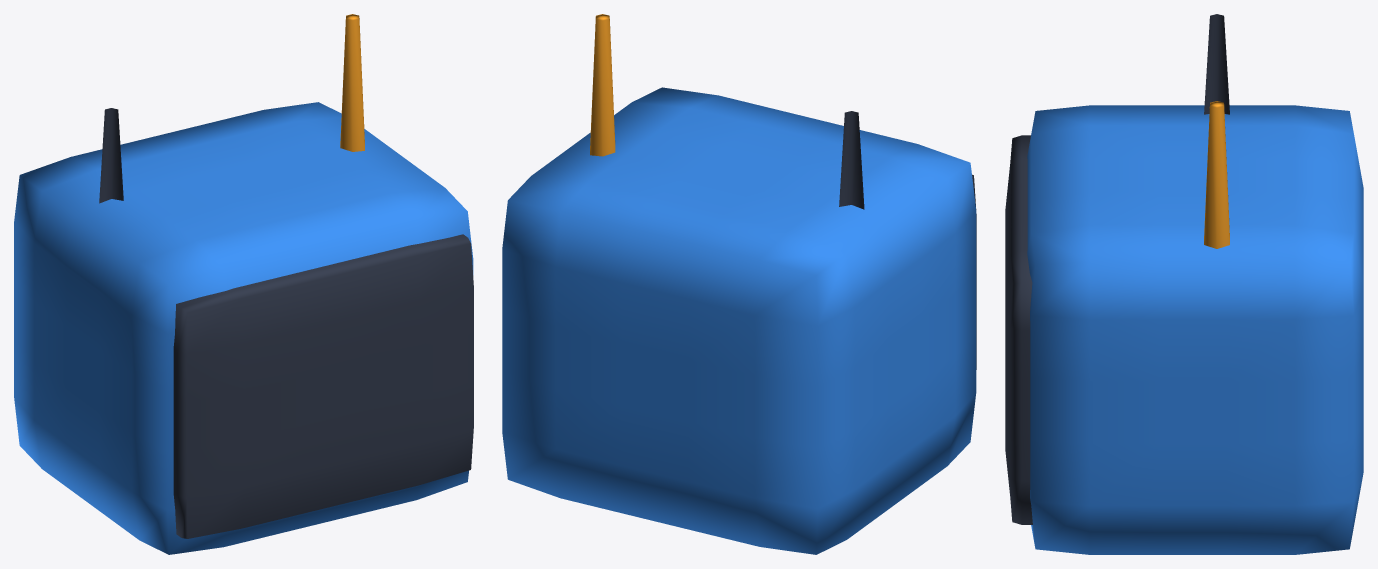
The model's file is head_crt_retro.obj.
3 renders of one model, left to right at view 1: azimuth 30°, elevation 25°; view 2: azimuth 150°, elevation 25°; view 3: azimuth 270°, elevation 25°, orthographic. The views are drawn at different scales.
Bounding box in the file's own units: 0.48 × 0.6 × 0.44.
